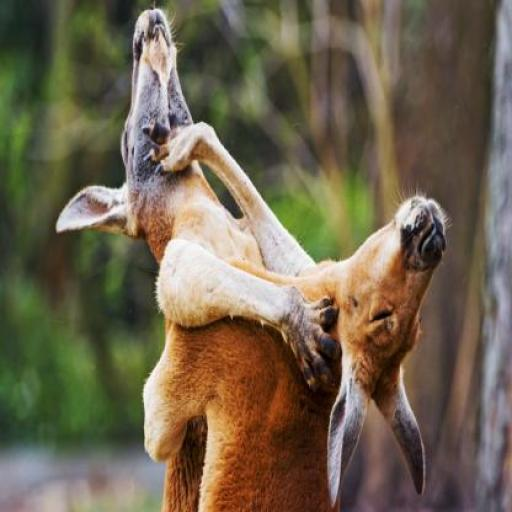Fighting: (58, 7, 447, 512)
